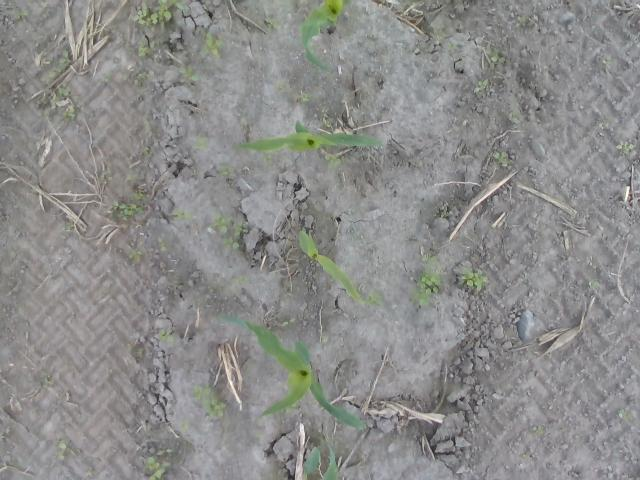Maize: (218, 315, 370, 434), (298, 232, 369, 310), (234, 120, 384, 156), (298, 0, 351, 73), (301, 443, 338, 480)
Weeds: (40, 50, 77, 122), (132, 0, 188, 31), (211, 212, 249, 250), (416, 256, 442, 308), (190, 383, 224, 422), (146, 449, 172, 480), (106, 200, 144, 218), (202, 30, 222, 58), (462, 270, 488, 290), (125, 176, 147, 198), (180, 65, 200, 81), (156, 329, 176, 342), (487, 47, 502, 64), (174, 207, 192, 221), (194, 138, 210, 152), (618, 140, 634, 154), (138, 43, 154, 57), (266, 18, 284, 30), (135, 72, 148, 88), (326, 152, 340, 166), (475, 78, 488, 92), (129, 249, 143, 261), (368, 292, 380, 306), (60, 442, 68, 462), (496, 152, 508, 164), (180, 420, 191, 432), (15, 10, 28, 20), (264, 152, 274, 164), (220, 164, 234, 172), (606, 57, 615, 69), (158, 238, 166, 249), (302, 92, 312, 100), (278, 80, 287, 87), (440, 210, 452, 215), (100, 75, 110, 80)
